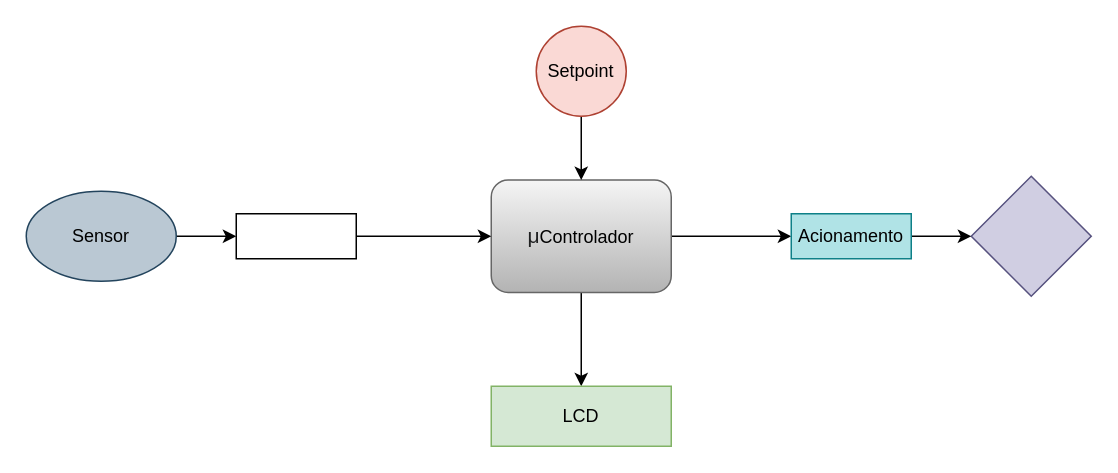
The diagram is 1118 pixels wide and 473 high, and some of its shapes have lost their labels. Each missing label, with the box of its shape:
Adequação: (235, 212, 356, 259)
Ventilador: (970, 175, 1091, 296)
